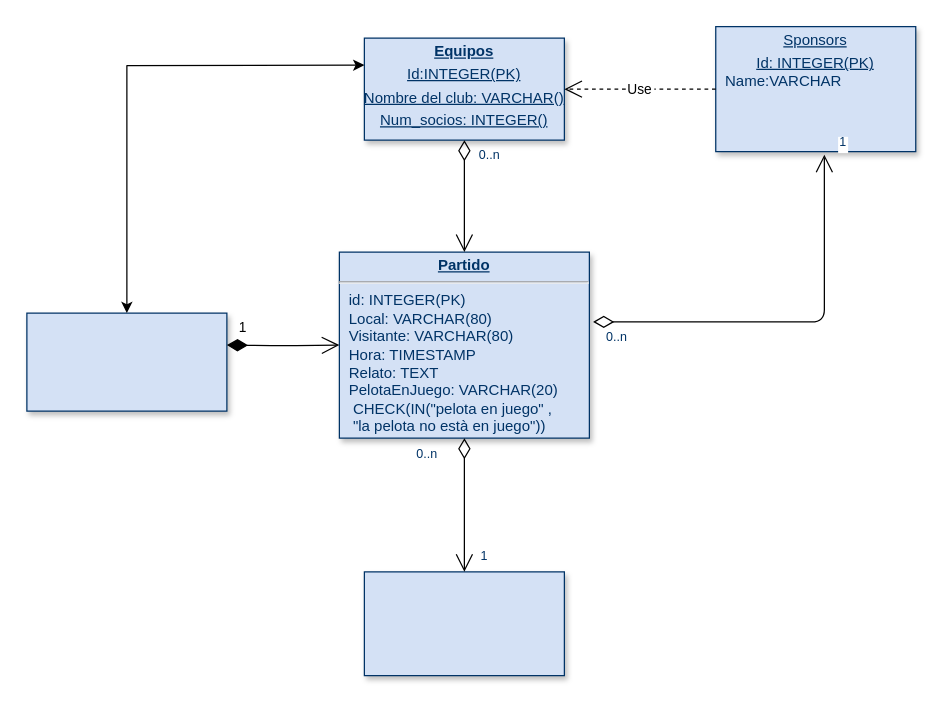
Image size: 946x708. Some labels were removed from this diagram. Each missing label, with the centre of its shape:
"Emisora IdCanal: INTEGER(PK) Name: VARCHAR(50) Description: TEXT" goes at [465,625].
"hinchas IdSocio: INTEGER(PK) Cub: VARCHAR(60) Name:VARCHAR(60)" goes at [127,363].
